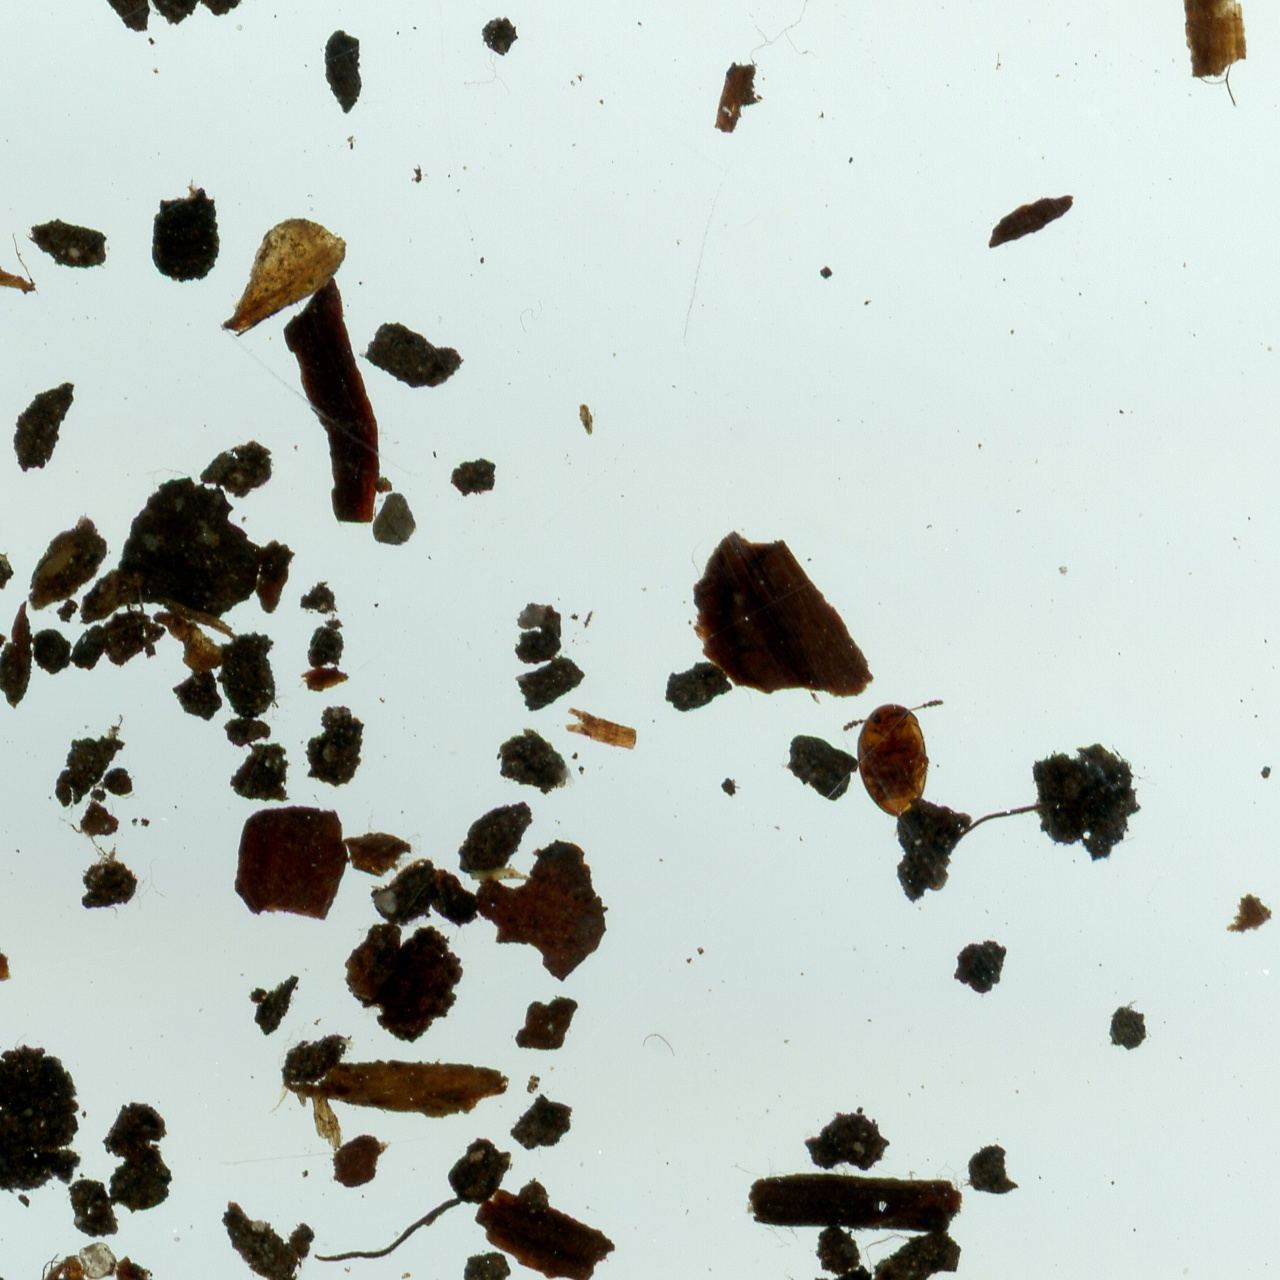arthropod: (840, 696, 953, 821)
